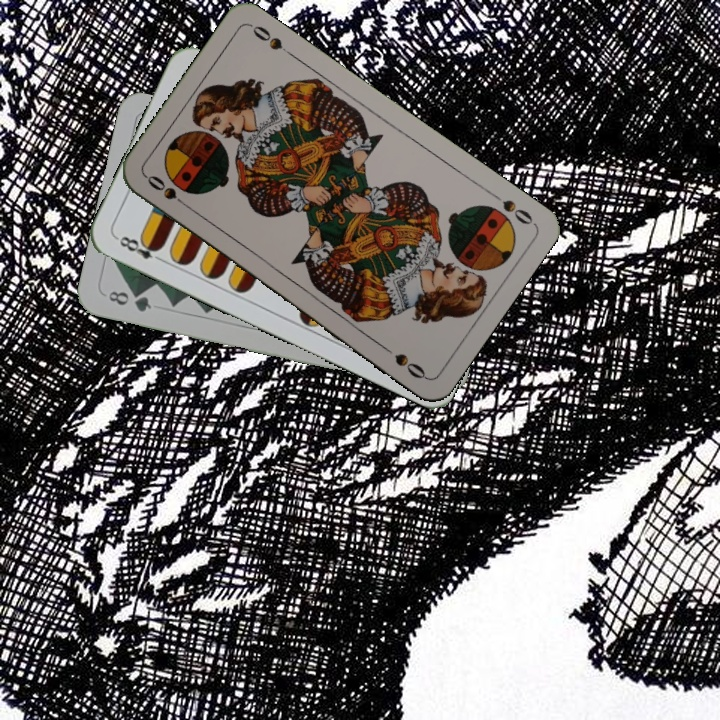E8: (112, 232, 167, 265)
G8: (104, 287, 154, 315)
SO: (142, 171, 194, 212), (485, 187, 536, 228)
